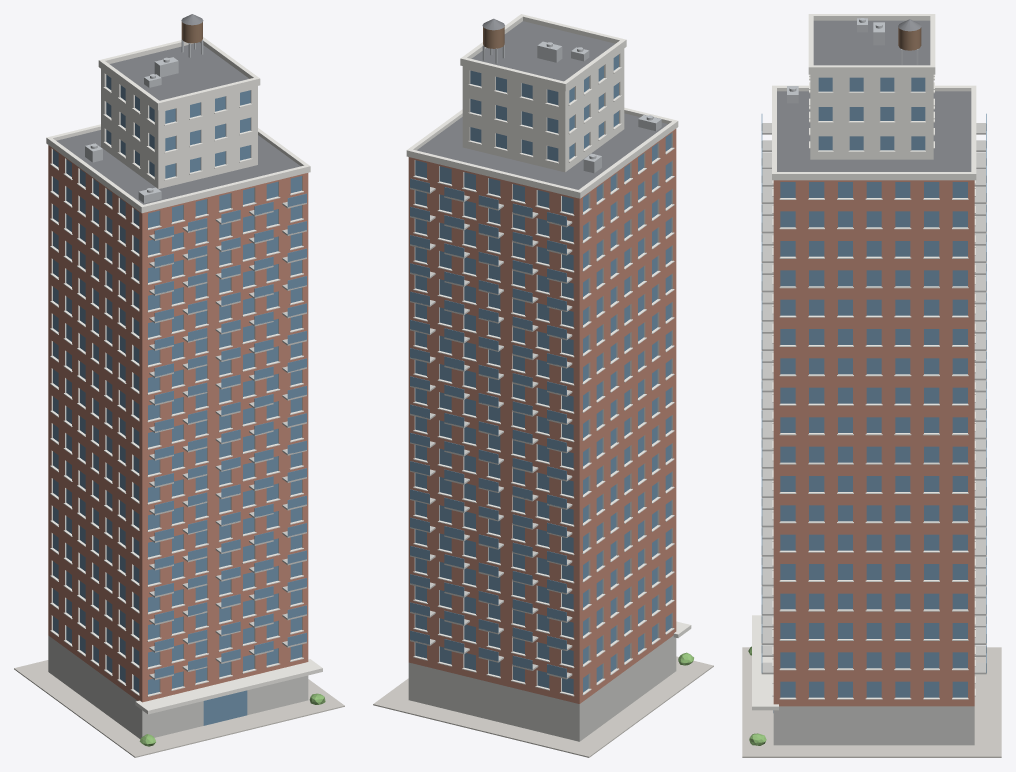
The picture shows the model from 3 angles, left to right: view 1: azimuth 30°, elevation 25°; view 2: azimuth 150°, elevation 25°; view 3: azimuth 270°, elevation 25°; orthographic projection. The views are drawn at different scales.
Parts seen in each view (by area): view 1: r_3_2_a; view 2: r_3_2_a; view 3: r_3_2_a.
Boxes of the visible parts, box(x1,y1,x2,y2) form: r_3_2_a: box(14, 14, 344, 757); r_3_2_a: box(373, 14, 713, 757); r_3_2_a: box(742, 14, 1001, 757).
Size of the model in its own units: 24 by 71.42 by 24.
